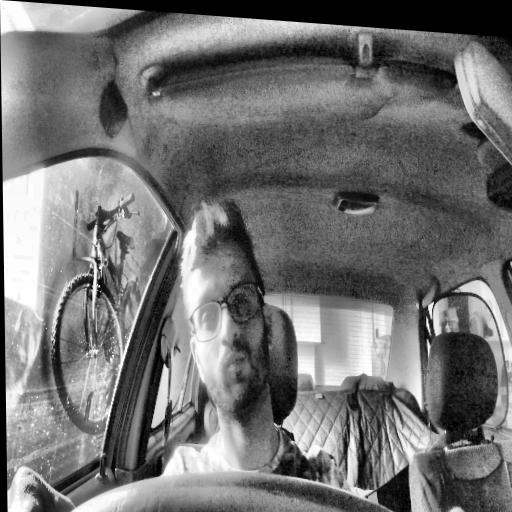awake: (181, 197, 274, 424)
